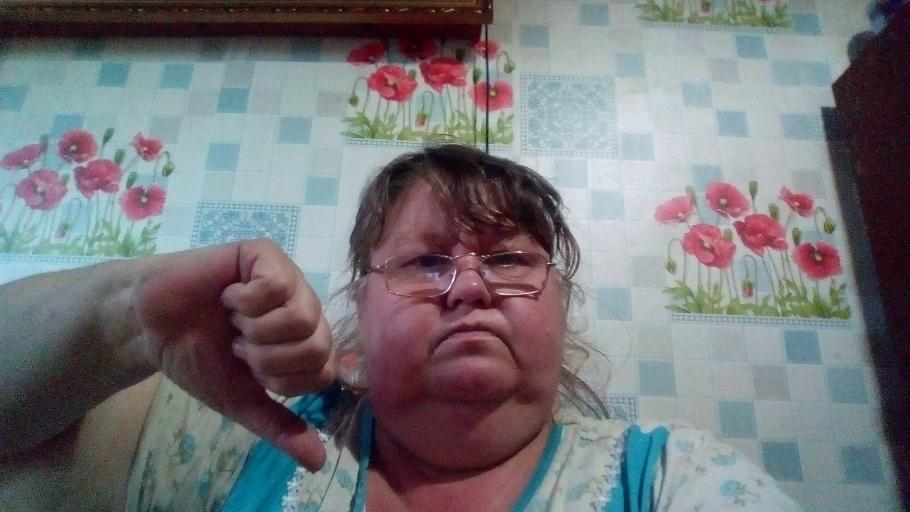dislike: (141, 231, 344, 479)
